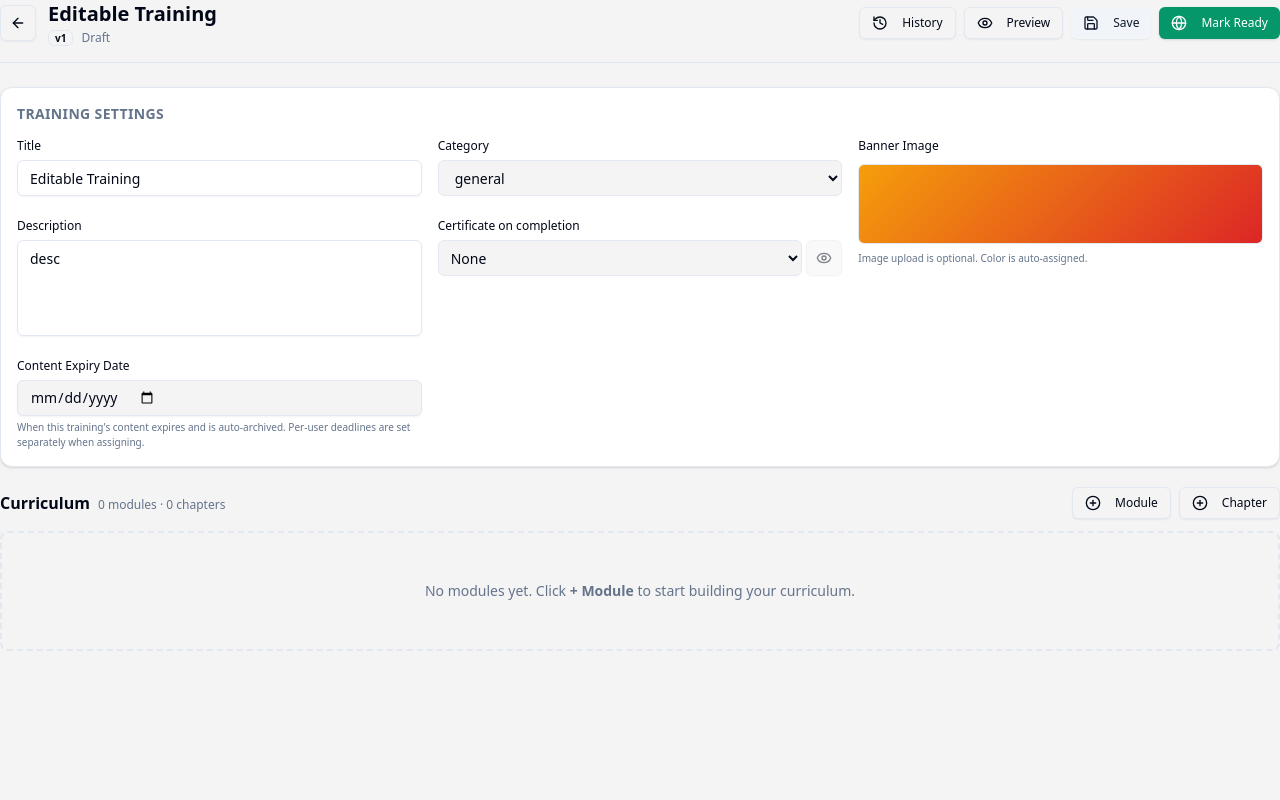
Scenario: ManagerTrainingEditor — quiz type picker (change_list item 3) › selecting True / False locks the options to True and False (no "Add Option")
expect the heading "Editable Training" is shown: met, box x1=48 y1=0 x2=217 y2=28
Click the button "Chapter". click: (1229, 503)
box: x1=1179 y1=487 x2=1279 y2=519
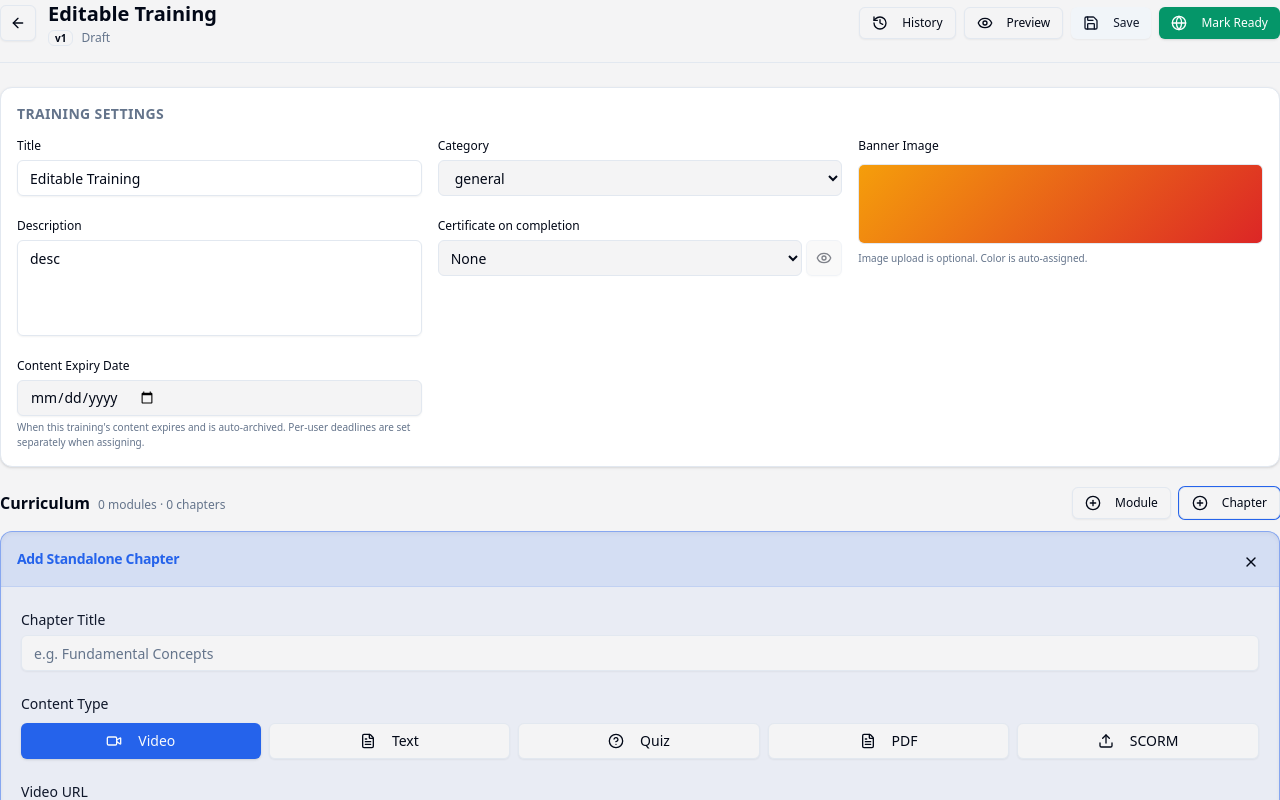
Click the button "Quiz". click: (639, 741)
box: x1=518 y1=723 x2=760 y2=759
(page scrolled)
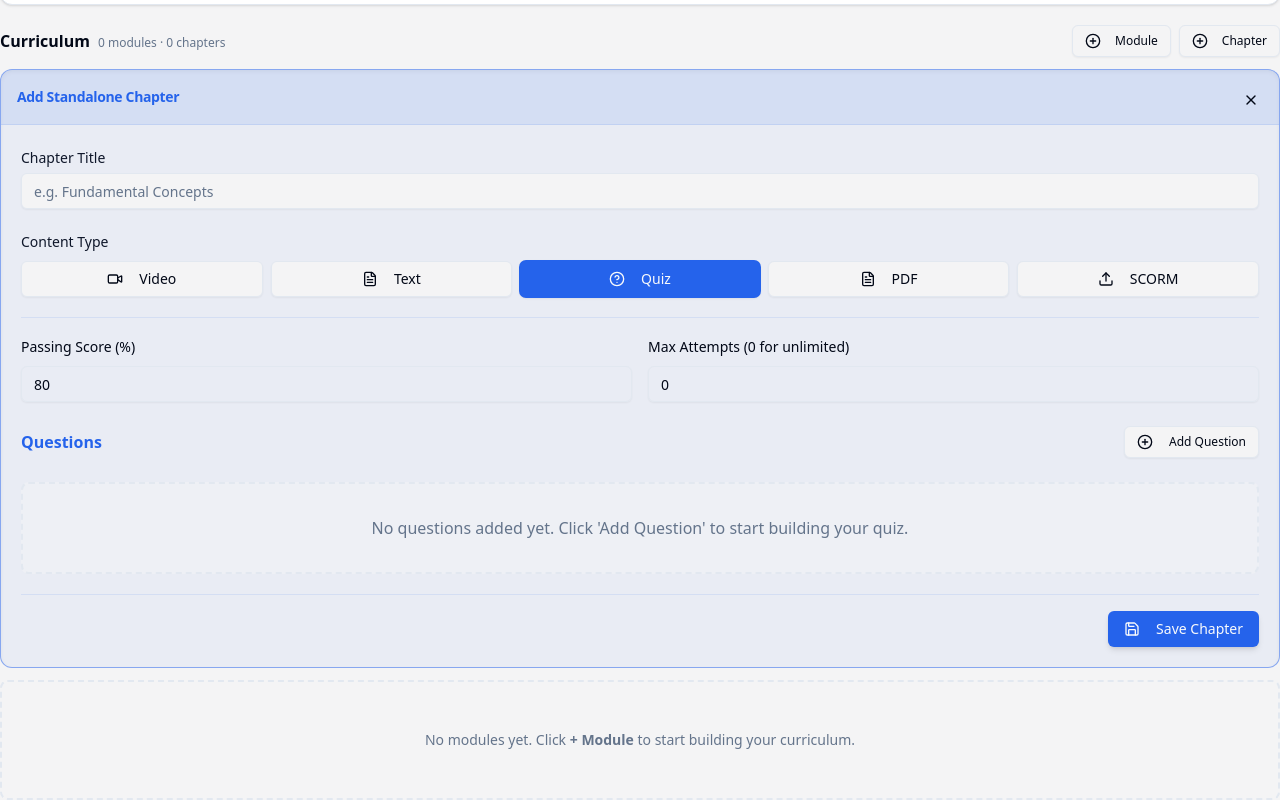
Click the button "Add Question". click: (1192, 442)
box: x1=1124 y1=426 x2=1259 y2=458
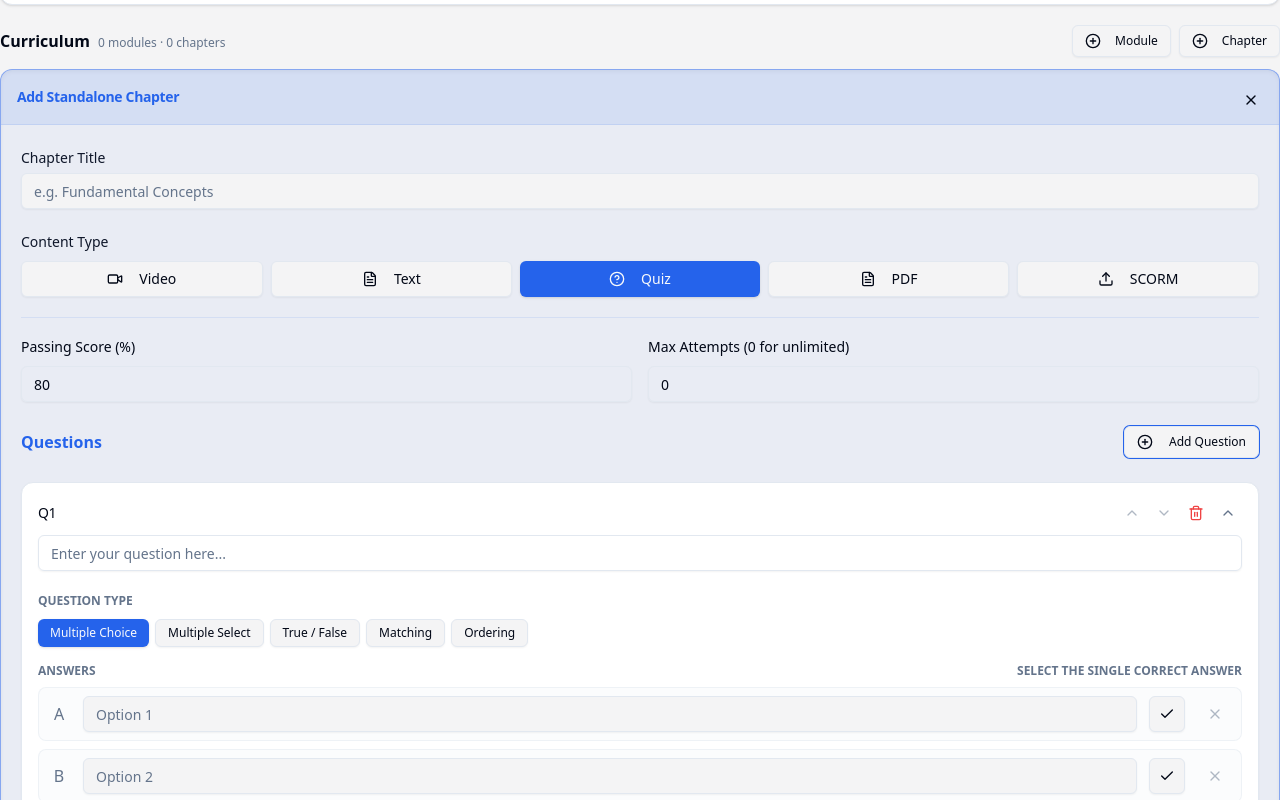
Click the button "True / False". click: (315, 633)
box: x1=270 y1=619 x2=360 y2=647
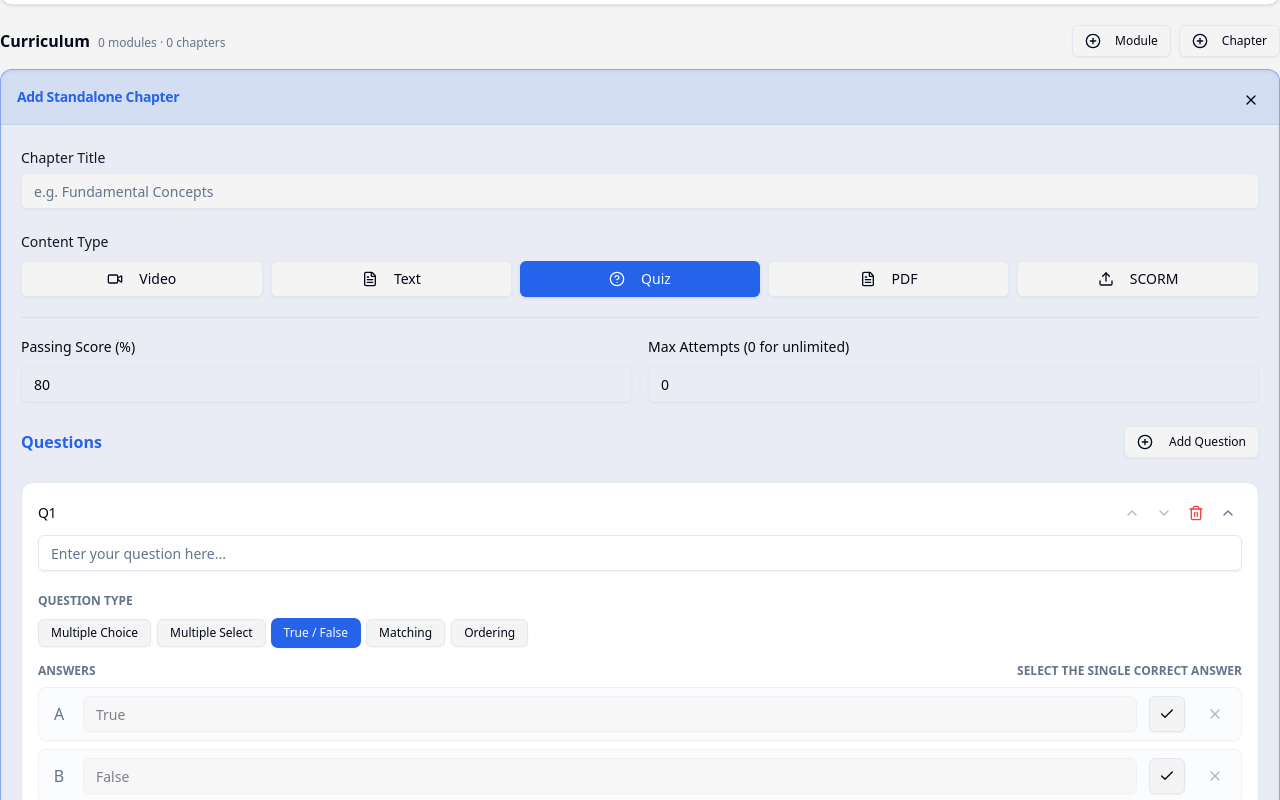
expect the 1st field showing "True" is shown: met, box x1=83 y1=696 x2=1137 y2=732
expect the 2nd field showing "False" is shown: met, box x1=83 y1=758 x2=1137 y2=794
